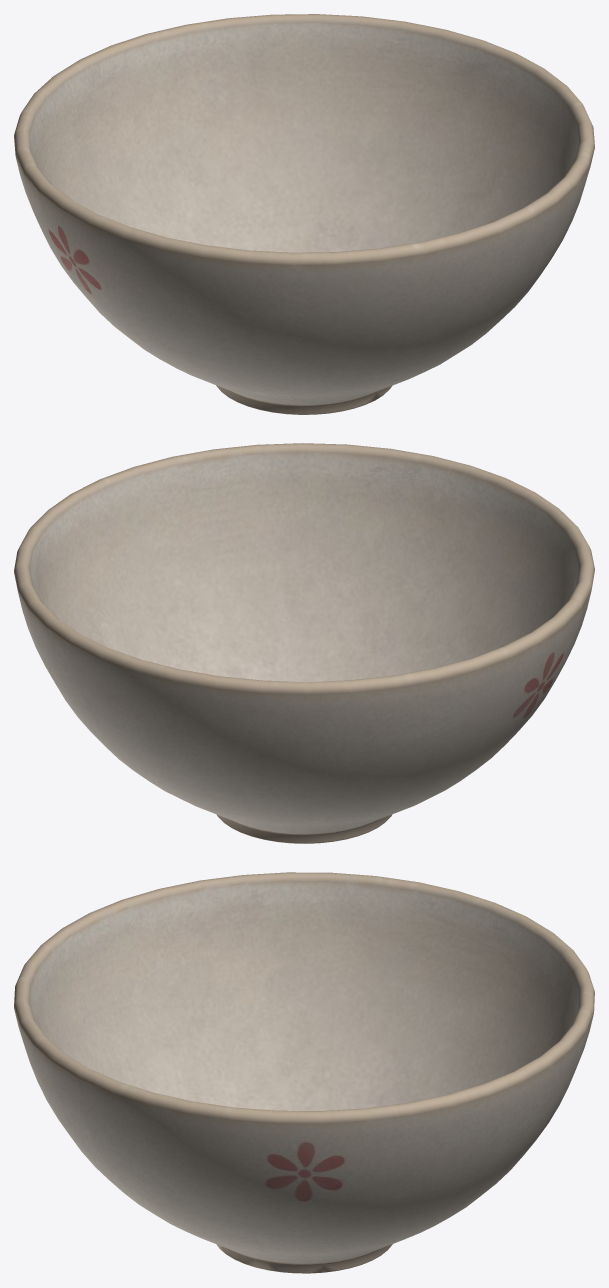
Rendered from bowl_white.glb.
3 views of the same model, one above another, from view 1: azimuth 30°, elevation 25°; view 2: azimuth 150°, elevation 25°; view 3: azimuth 270°, elevation 25° (orthographic).
Parts seen in each view (by area): view 1: bowl_white; view 2: bowl_white; view 3: bowl_white.
Boxes of the visible parts, <box> form: bowl_white: <box>14,14,594,414</box>; bowl_white: <box>14,443,594,843</box>; bowl_white: <box>14,872,594,1273</box>.
Size of the model in its own units: 0.1298 by 0.06 by 0.1299.
1 material, 1 textured.
